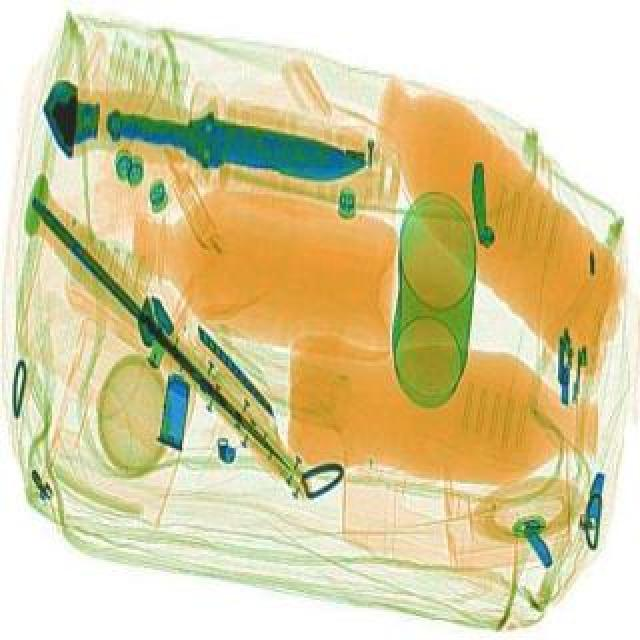knife: (10, 182, 310, 484), (98, 92, 386, 194)
